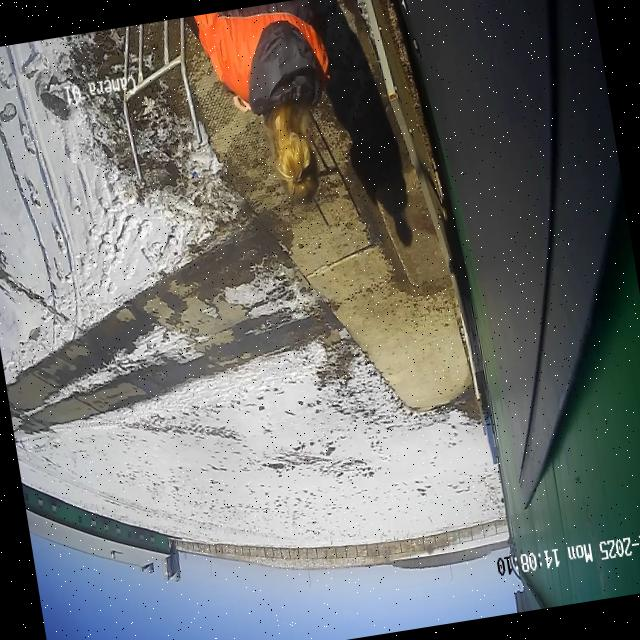Red uniform: (192, 0, 329, 203)
